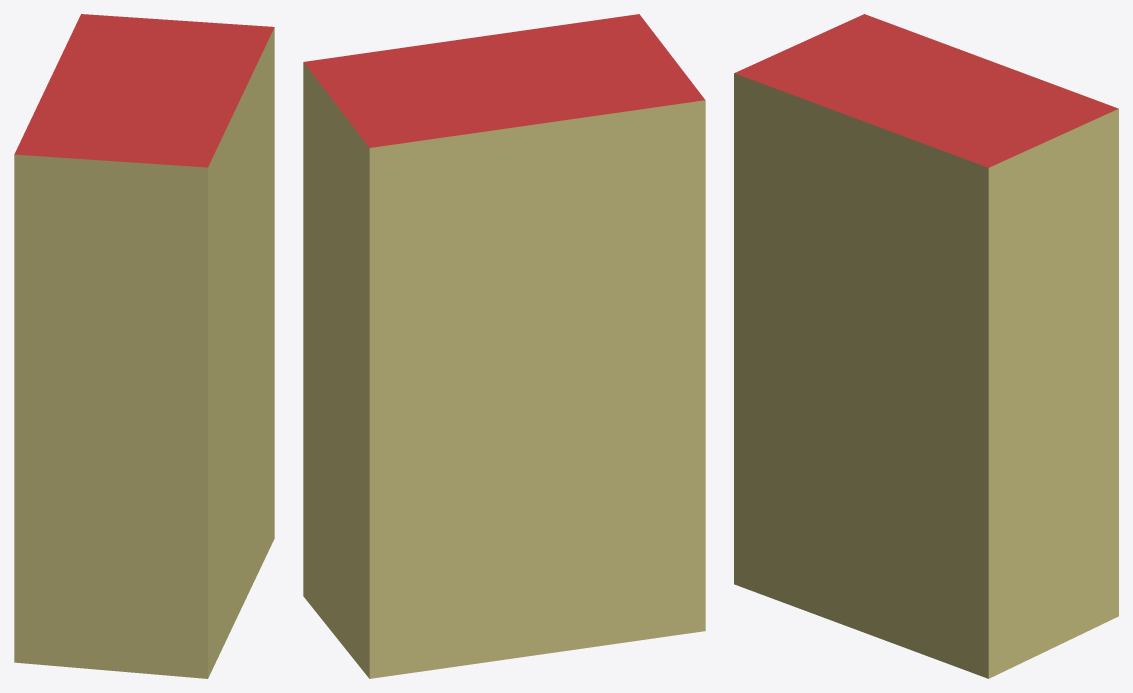
3 views of the same model, side by side, from view 1: azimuth 30°, elevation 25°; view 2: azimuth 150°, elevation 25°; view 3: azimuth 270°, elevation 25° (orthographic). The views are drawn at different scales.
Bounding box in the file's own units: 3.19 × 3.3 × 4.83.
